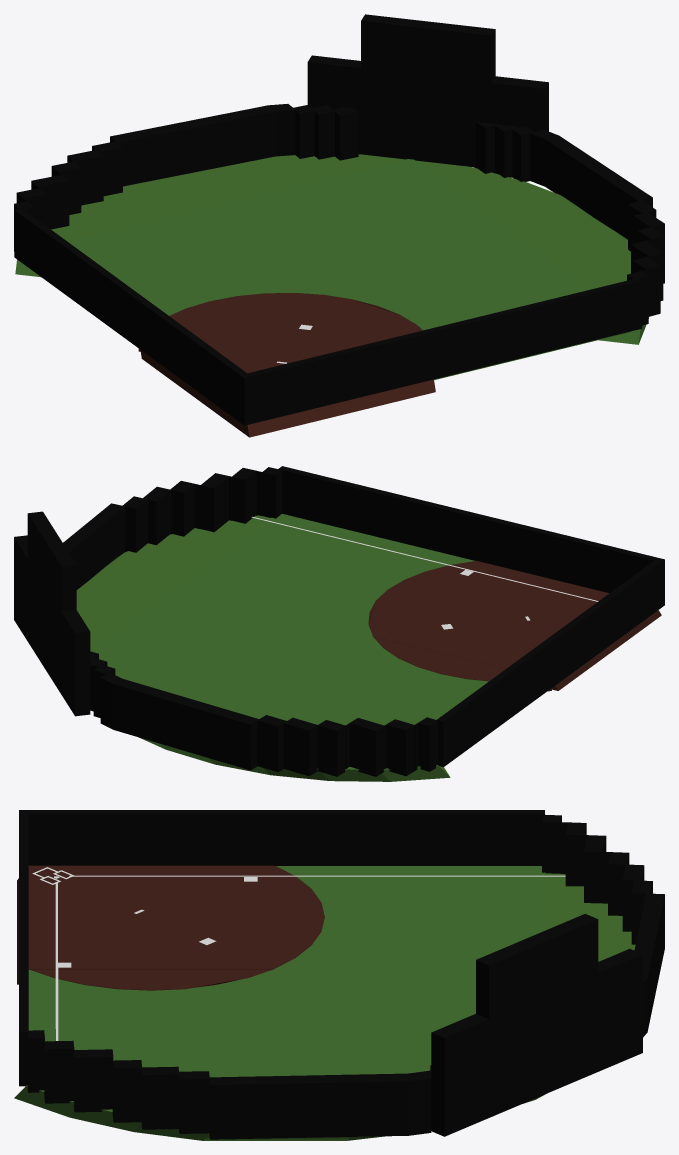
The model's file is dome.fbx.
3 views of the same model, one above another, from view 1: azimuth 30°, elevation 25°; view 2: azimuth 150°, elevation 25°; view 3: azimuth 270°, elevation 25° (orthographic). The views are drawn at different scales.
Visible parts, largest first — view 1: 平面, 円, 平面.039, 平面.038, 平面.036, 平面.040, 平面.035, 平面.001, 平面.037, 円.001; view 2: 平面, 平面.038, 平面.039, 平面.001, 平面.040, 平面.035, 円, 平面.036, 円.001, 平面.037, 平面.019; view 3: 平面, 平面.040, 平面.001, 平面.035, 平面.036, 平面.038, 平面.037, 円.001, 円, 平面.039, 平面.018, 平面.019.
Part boxes in pixels (x1,y1,x2,y2): 平面: [68, 159, 630, 379]; 円: [15, 154, 648, 344]; 平面.039: [244, 278, 642, 425]; 平面.038: [14, 104, 358, 251]; 平面.036: [307, 55, 548, 167]; 平面.040: [14, 208, 250, 425]; 平面.035: [474, 121, 664, 325]; 平面.001: [140, 294, 435, 437]; 平面.037: [361, 14, 495, 82]; 円.001: [138, 293, 422, 351]; 平面: [90, 514, 488, 766]; 平面.038: [90, 651, 437, 776]; 平面.039: [278, 466, 663, 593]; 平面.001: [372, 560, 661, 690]; 平面.040: [436, 558, 664, 766]; 平面.035: [63, 467, 281, 589]; 円: [76, 515, 450, 781]; 平面.036: [14, 535, 90, 716]; 円.001: [368, 561, 551, 691]; 平面.037: [27, 511, 76, 611]; 平面.019: [251, 516, 598, 601]; 平面: [28, 866, 545, 1077]; 平面.040: [19, 810, 544, 865]; 平面.001: [17, 865, 274, 984]; 平面.035: [27, 1030, 431, 1139]; 平面.036: [431, 948, 642, 1136]; 平面.038: [542, 814, 664, 1037]; 平面.037: [476, 914, 598, 1019]; 円.001: [30, 866, 324, 990]; 円: [14, 873, 635, 1140]; 平面.039: [19, 810, 28, 1086]; 平面.018: [69, 875, 565, 876]; 平面.019: [55, 882, 58, 1040].
Bounding box in the file's own units: 4792 × 1380 × 4773.
